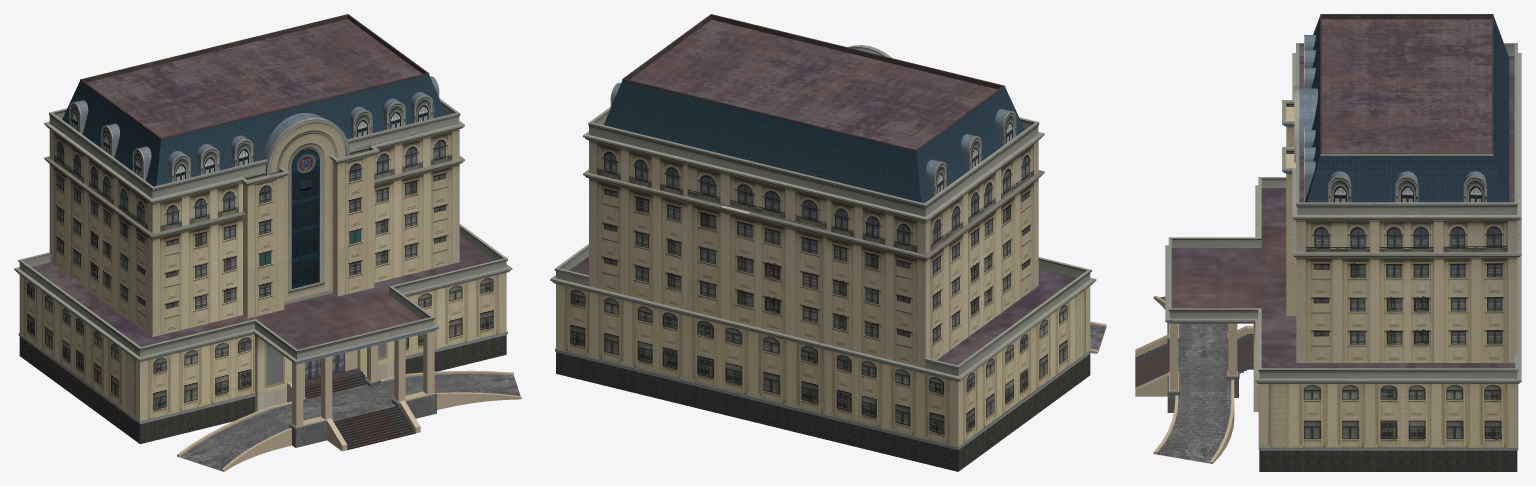
The picture shows the model from 3 angles, left to right: view 1: azimuth 30°, elevation 25°; view 2: azimuth 150°, elevation 25°; view 3: azimuth 270°, elevation 25°; orthographic projection. The views are drawn at different scales.
Parts seen in each view (by area): view 1: HN1343_CucTHADanSuHaNoi; view 2: HN1343_CucTHADanSuHaNoi; view 3: HN1343_CucTHADanSuHaNoi.
Part boxes in pixels (x1,y1,x2,y2): HN1343_CucTHADanSuHaNoi: [14, 14, 521, 471]; HN1343_CucTHADanSuHaNoi: [550, 14, 1106, 471]; HN1343_CucTHADanSuHaNoi: [1135, 14, 1521, 471].
Bounding box in the file's own units: 43.72 × 30.66 × 36.57.
1 material, 1 textured.
